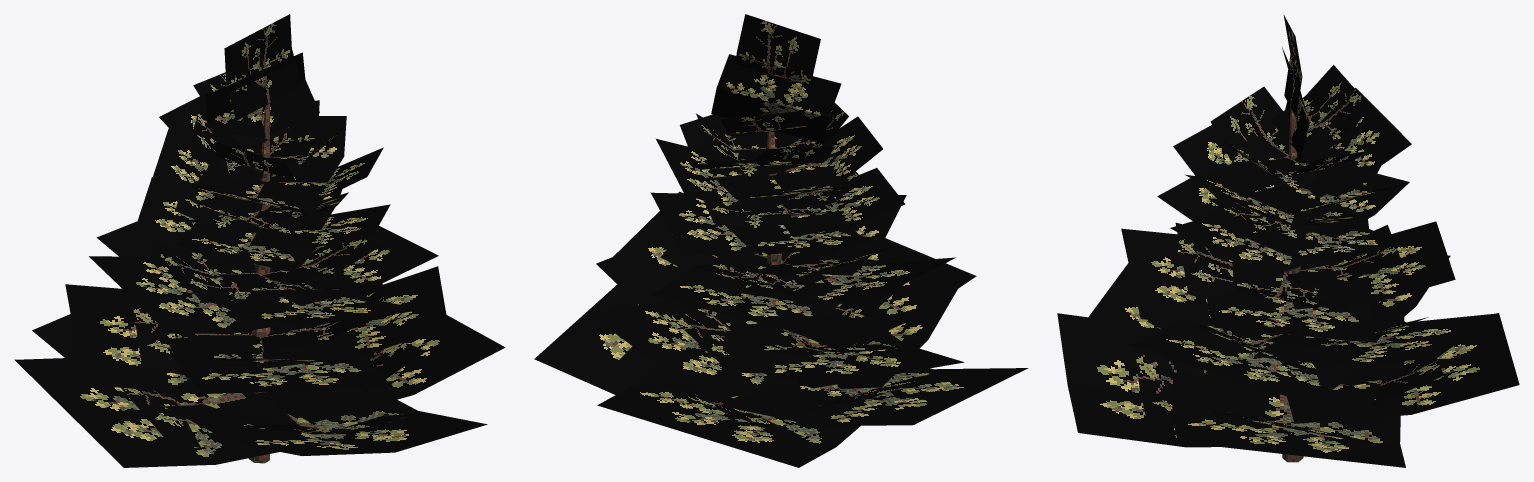
Rendered from little_tree.glb.
The picture shows the model from 3 angles, left to right: view 1: azimuth 30°, elevation 25°; view 2: azimuth 150°, elevation 25°; view 3: azimuth 270°, elevation 25°; orthographic projection. The views are drawn at different scales.
Parts seen in each view (by area): view 1: small_tree_02; view 2: small_tree_02; view 3: small_tree_02.
Boxes of the visible parts, x1,y1,x2,y2 form: small_tree_02: [14, 14, 505, 467]; small_tree_02: [534, 14, 1028, 467]; small_tree_02: [1057, 15, 1519, 467].
Size of the model in its own units: 15.71 by 16.86 by 16.14.
Materials: 1 (1 with a texture image).
